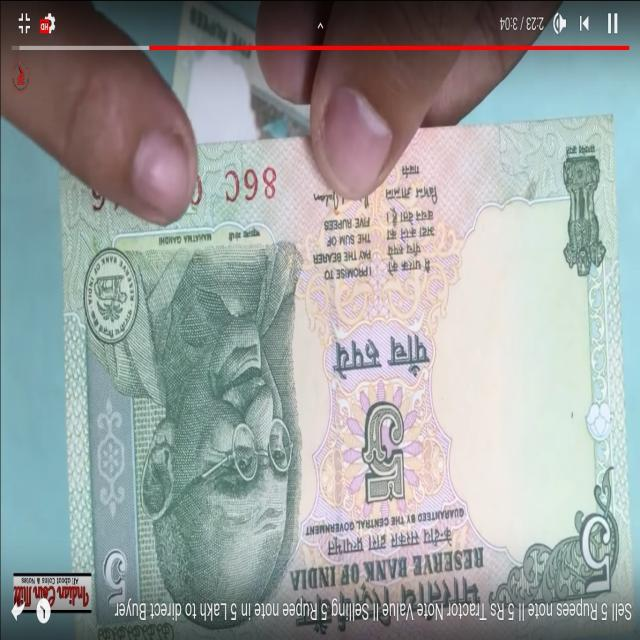5IndianRupees: (59, 126, 627, 598)
